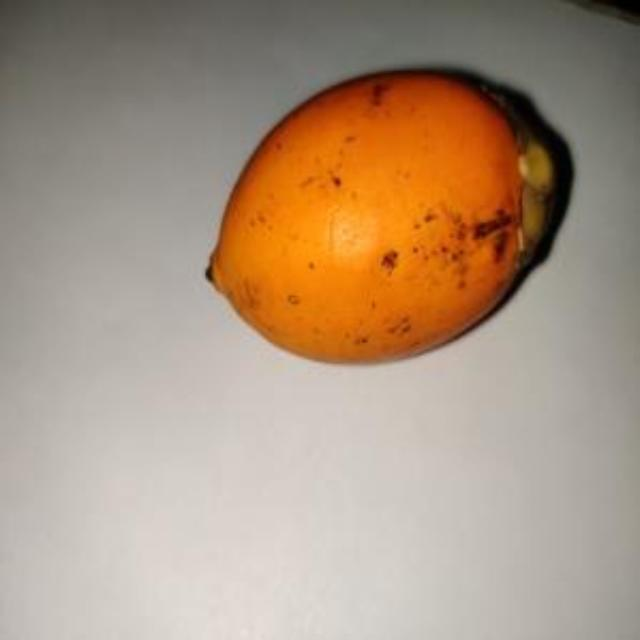good: (203, 68, 572, 368)
